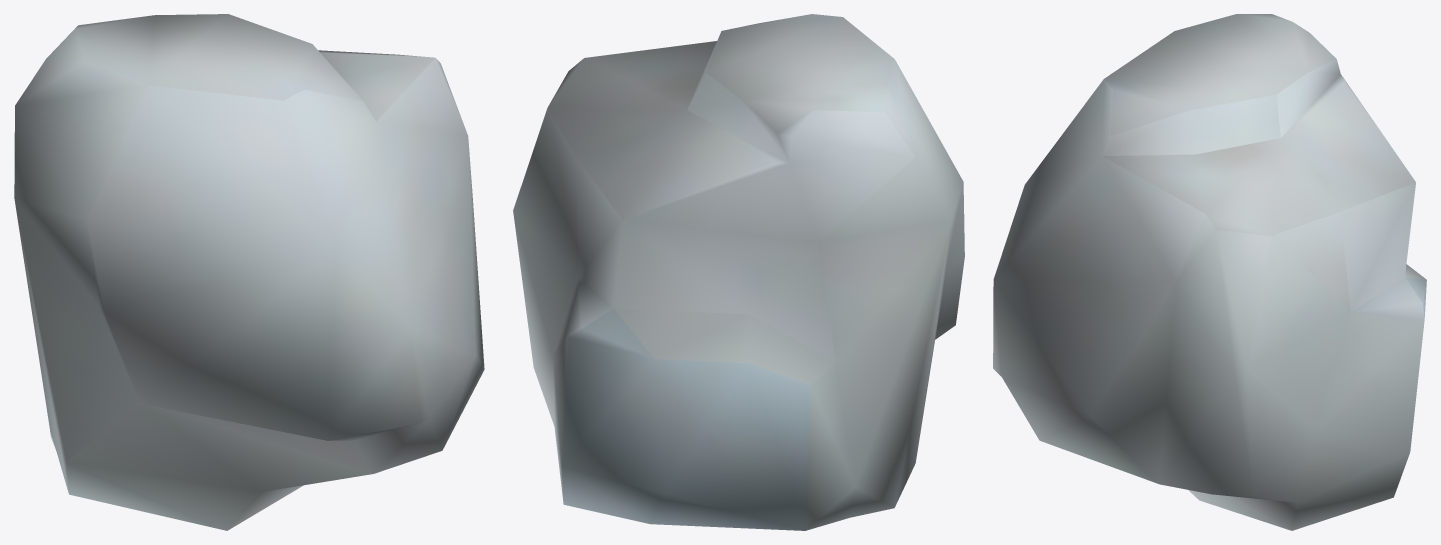
File: P_RockSpire_Rock05.obj
The picture shows the model from 3 angles, left to right: view 1: azimuth 30°, elevation 25°; view 2: azimuth 150°, elevation 25°; view 3: azimuth 270°, elevation 25°; orthographic projection. The views are drawn at different scales.
Bounding box in the file's own units: 3.92 × 3.76 × 3.7.
